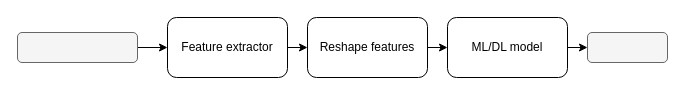
This 685x95 diagram has some shape labels left out. The centre of each missing label's shape, as x and y in pixels:
"Predictions" belongs at point 627,47.
"Radar sensor data" belongs at point 77,47.
